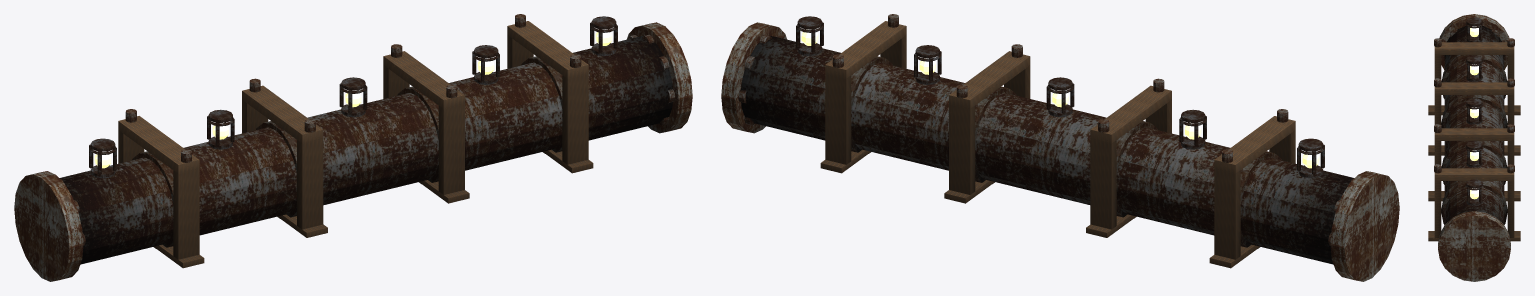
File: pipe_straight.glb
The picture shows the model from 3 angles, left to right: view 1: azimuth 30°, elevation 25°; view 2: azimuth 150°, elevation 25°; view 3: azimuth 270°, elevation 25°; orthographic projection. The views are drawn at different scales.
Visible parts, largest first — view 1: PS_Pipe, PS_Brackets, PS_Flange_W_disc, PS_Lamps_Frame, PS_Flange_E_disc, PS_Bands, PS_BracketBolts, PS_Bolts; view 2: PS_Pipe, PS_Brackets, PS_Flange_W_disc, PS_Lamps_Frame, PS_Flange_E_disc, PS_Bands, PS_BracketBolts, PS_Bolts; view 3: PS_Brackets, PS_Pipe, PS_Flange_E_disc, PS_Bands, PS_Lamps_Frame, PS_Flange_W_disc, PS_BracketBolts, PS_Bolts, PS_Lamp2_bulb, PS_Lamp0_bulb, PS_Lamp1_bulb, PS_Lamp3_bulb (+1 smaller).
Part boxes in pixels (box(x1,y1,x2,y2)): PS_Pipe: box(59, 36, 672, 264); PS_Brackets: box(118, 21, 593, 268); PS_Flange_W_disc: box(14, 171, 83, 281); PS_Lamps_Frame: box(89, 16, 617, 178); PS_Flange_E_disc: box(627, 22, 692, 133); PS_Bands: box(132, 56, 562, 248); PS_BracketBolts: box(125, 14, 581, 162); PS_Bolts: box(60, 34, 675, 245); PS_Pipe: box(741, 36, 1354, 264); PS_Brackets: box(820, 21, 1295, 268); PS_Flange_W_disc: box(1330, 171, 1399, 281); PS_Lamps_Frame: box(796, 16, 1324, 178); PS_Flange_E_disc: box(721, 22, 786, 133); PS_Bands: box(851, 56, 1281, 248); PS_BracketBolts: box(832, 14, 1288, 162); PS_Bolts: box(738, 34, 1353, 245); PS_Brackets: box(1428, 42, 1520, 241); PS_Pipe: box(1444, 26, 1504, 224); PS_Flange_E_disc: box(1438, 211, 1510, 281); PS_Bands: box(1441, 55, 1507, 224); PS_Lamps_Frame: box(1465, 17, 1483, 205); PS_Flange_W_disc: box(1439, 14, 1509, 70); PS_BracketBolts: box(1434, 38, 1514, 173); PS_Bolts: box(1442, 25, 1506, 56); PS_Lamp2_bulb: box(1470, 107, 1478, 118); PS_Lamp0_bulb: box(1470, 26, 1478, 36); PS_Lamp1_bulb: box(1470, 64, 1478, 75); PS_Lamp3_bulb: box(1470, 150, 1478, 160).
Bounding box in the file's own units: 1.76 × 0.323 × 0.3398.
Materials: 6 (5 with a texture image).
